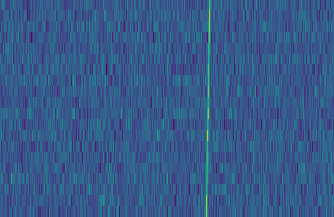signal: (202, 0, 214, 217)
